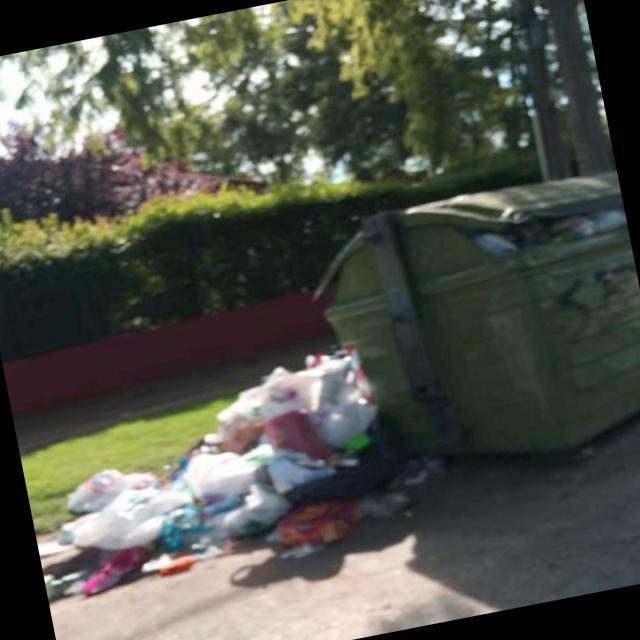garbage: (26, 414, 402, 614), (198, 334, 398, 446), (468, 204, 630, 264)
